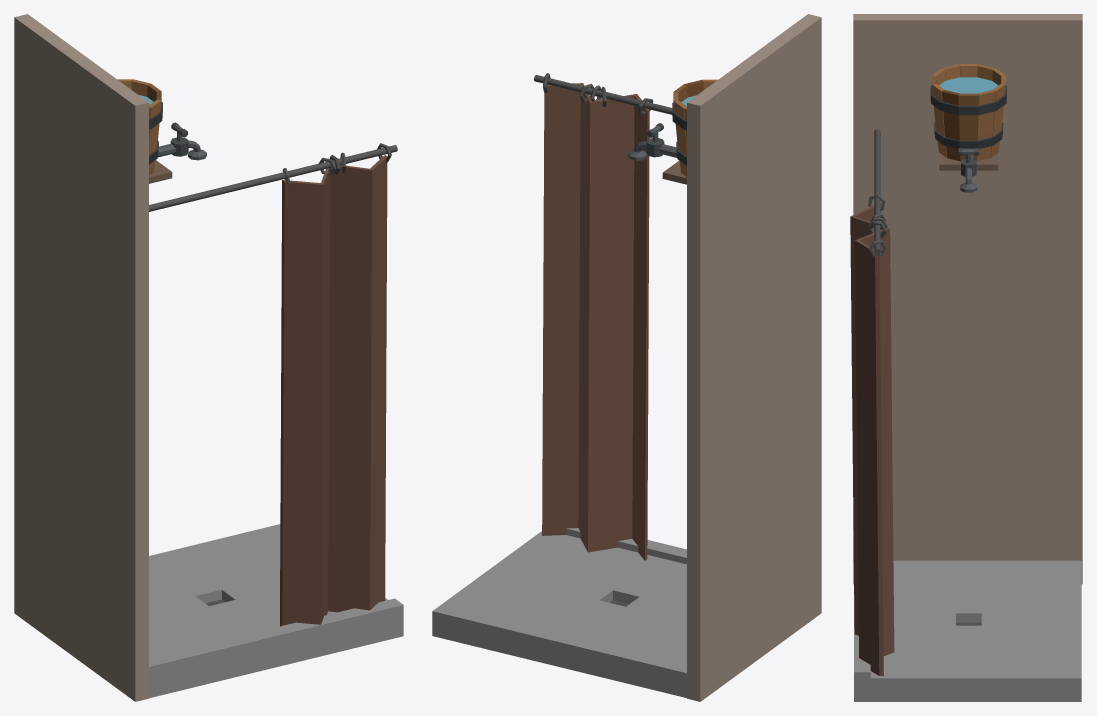
The model's file is Shower_01.fbx.
3 views of the same model, side by side, from view 1: azimuth 30°, elevation 25°; view 2: azimuth 150°, elevation 25°; view 3: azimuth 270°, elevation 25° (orthographic). The views are drawn at different scales.
Visible parts, largest first — view 1: Shower_01; view 2: Shower_01; view 3: Shower_01.
Boxes of the visible parts, <box> form: Shower_01: <box>14,14,403,701</box>; Shower_01: <box>432,14,821,701</box>; Shower_01: <box>850,14,1082,701</box>.
Size of the model in its own units: 131 by 273 by 102.
